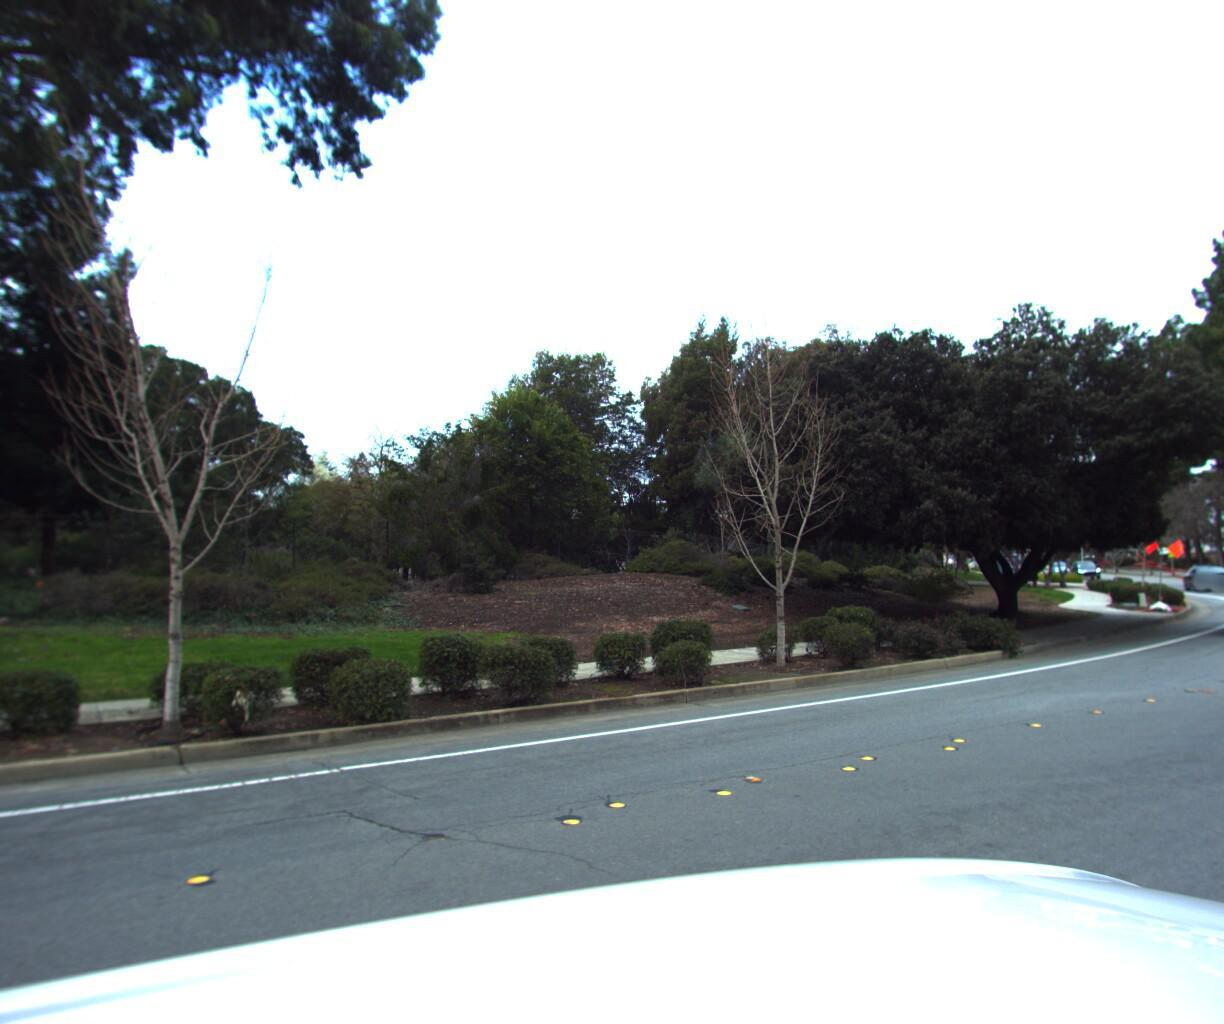car: (1171, 555, 1224, 585), (1205, 556, 1224, 637), (1060, 552, 1094, 573)
